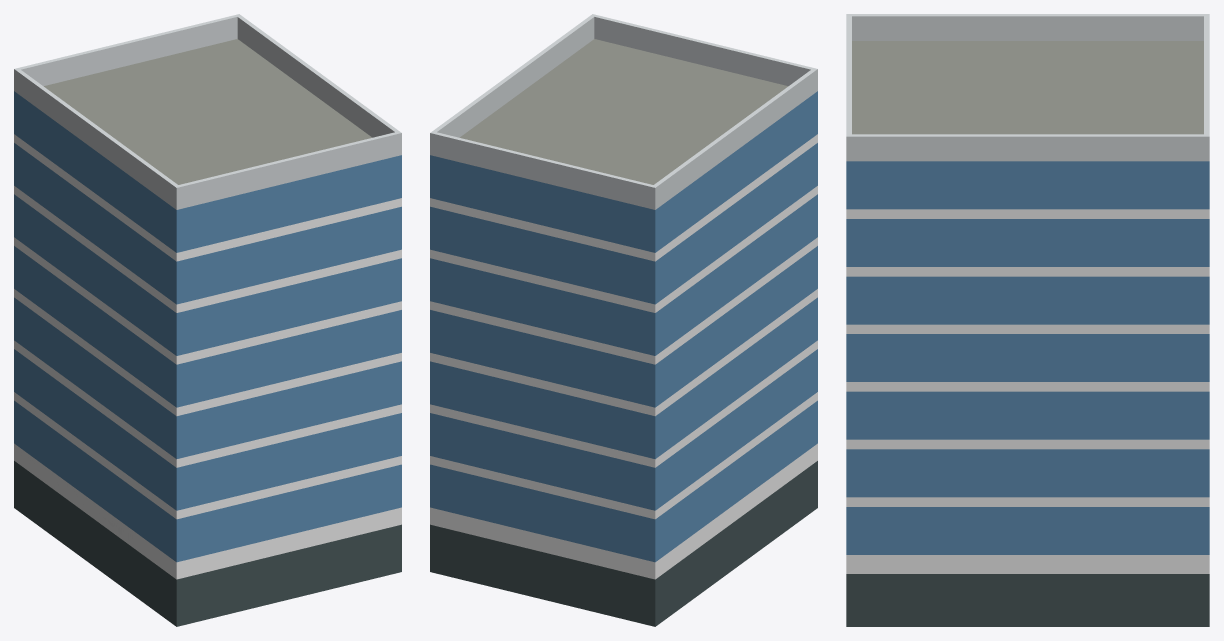
Rendered from far.fbx.
3 renders of one model, left to right at view 1: azimuth 30°, elevation 25°; view 2: azimuth 150°, elevation 25°; view 3: azimuth 270°, elevation 25°, orthographic. The views are drawn at different scales.
Parts seen in each view (by area): view 1: a2009/400/far; view 2: a2009/400/far; view 3: a2009/400/far.
Boxes of the visible parts, x1,y1,x2,y2 form: a2009/400/far: [14, 14, 401, 626]; a2009/400/far: [430, 14, 817, 626]; a2009/400/far: [846, 14, 1209, 626].
Bounding box in the file's own units: 16 × 29.8 × 20.
